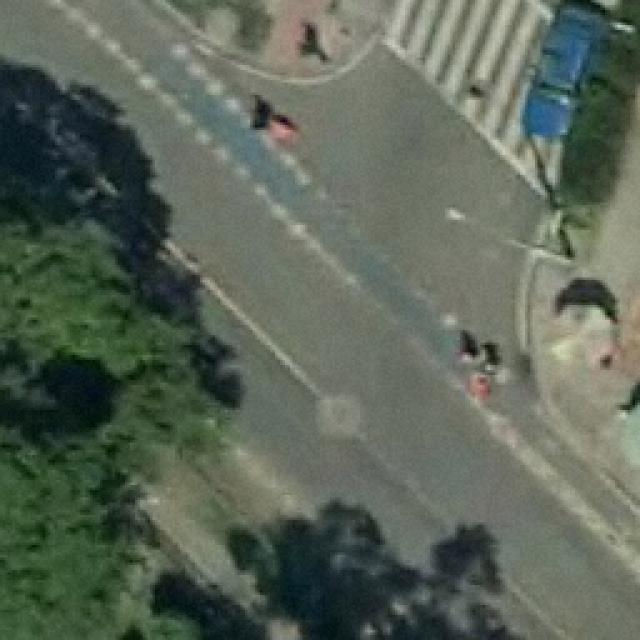vendedor_ambulante: (544, 303, 621, 372)
